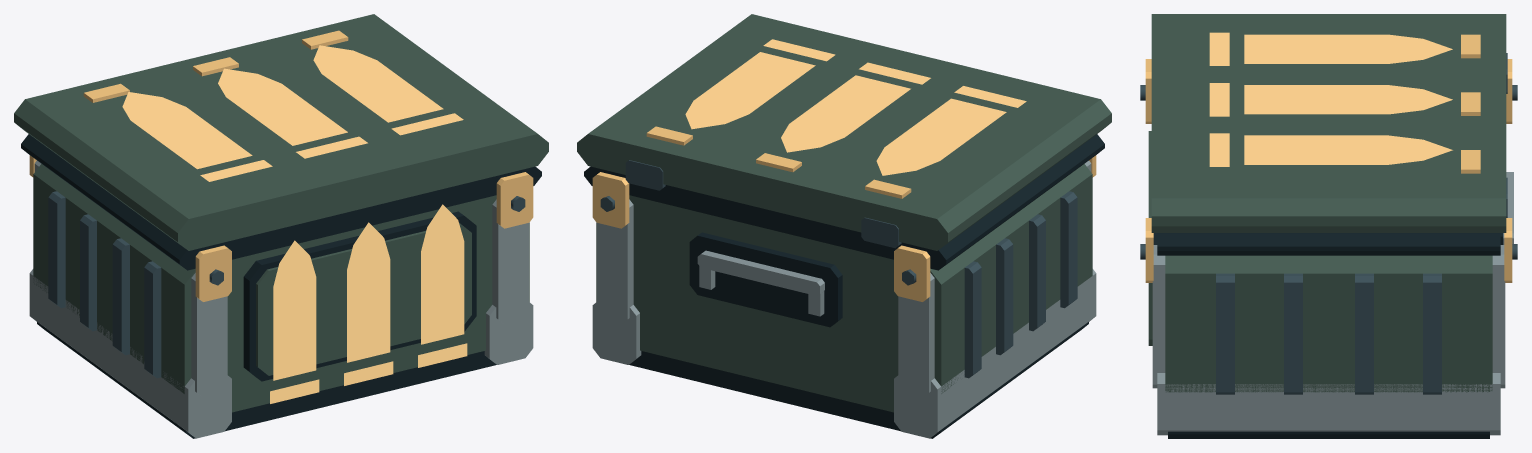
The model's file is ammo-case-a01.glb.
The picture shows the model from 3 angles, left to right: view 1: azimuth 30°, elevation 25°; view 2: azimuth 150°, elevation 25°; view 3: azimuth 270°, elevation 25°; orthographic projection. The views are drawn at different scales.
Visible parts, largest first — view 1: A01_Shell_Surface, A01_Gasket_Surface, supply-mark-front, A01_Frame_Surface, supply-mark-top, A01_Fastener_Surface, A01_Signal_Surface; view 2: A01_Shell_Surface, A01_Gasket_Surface, A01_Frame_Surface, supply-mark-top, A01_Fastener_Surface, A01_Signal_Surface; view 3: A01_Shell_Surface, A01_Frame_Surface, supply-mark-top, A01_Gasket_Surface, A01_Fastener_Surface, A01_Signal_Surface.
Boxes of the visible parts, bbox=[...] form: A01_Shell_Surface: bbox=[14, 14, 548, 412]; A01_Gasket_Surface: bbox=[21, 134, 541, 438]; supply-mark-front: bbox=[270, 204, 467, 403]; A01_Frame_Surface: bbox=[29, 160, 533, 438]; supply-mark-top: bbox=[122, 45, 463, 181]; A01_Fastener_Surface: bbox=[48, 191, 525, 378]; A01_Signal_Surface: bbox=[29, 30, 533, 301]; A01_Shell_Surface: bbox=[577, 14, 1111, 412]; A01_Gasket_Surface: bbox=[584, 134, 1104, 438]; A01_Frame_Surface: bbox=[592, 160, 1096, 438]; supply-mark-top: bbox=[685, 39, 1026, 175]; A01_Fastener_Surface: bbox=[600, 160, 1077, 378]; A01_Signal_Surface: bbox=[592, 126, 1096, 301]; A01_Shell_Surface: bbox=[1148, 14, 1506, 392]; A01_Frame_Surface: bbox=[1152, 172, 1513, 435]; supply-mark-top: bbox=[1209, 32, 1452, 166]; A01_Gasket_Surface: bbox=[1153, 233, 1503, 438]; A01_Fastener_Surface: bbox=[1140, 53, 1517, 394]; A01_Signal_Surface: bbox=[1145, 34, 1512, 282].
Size of the model in its own units: 0.85 by 0.513 by 0.692.
